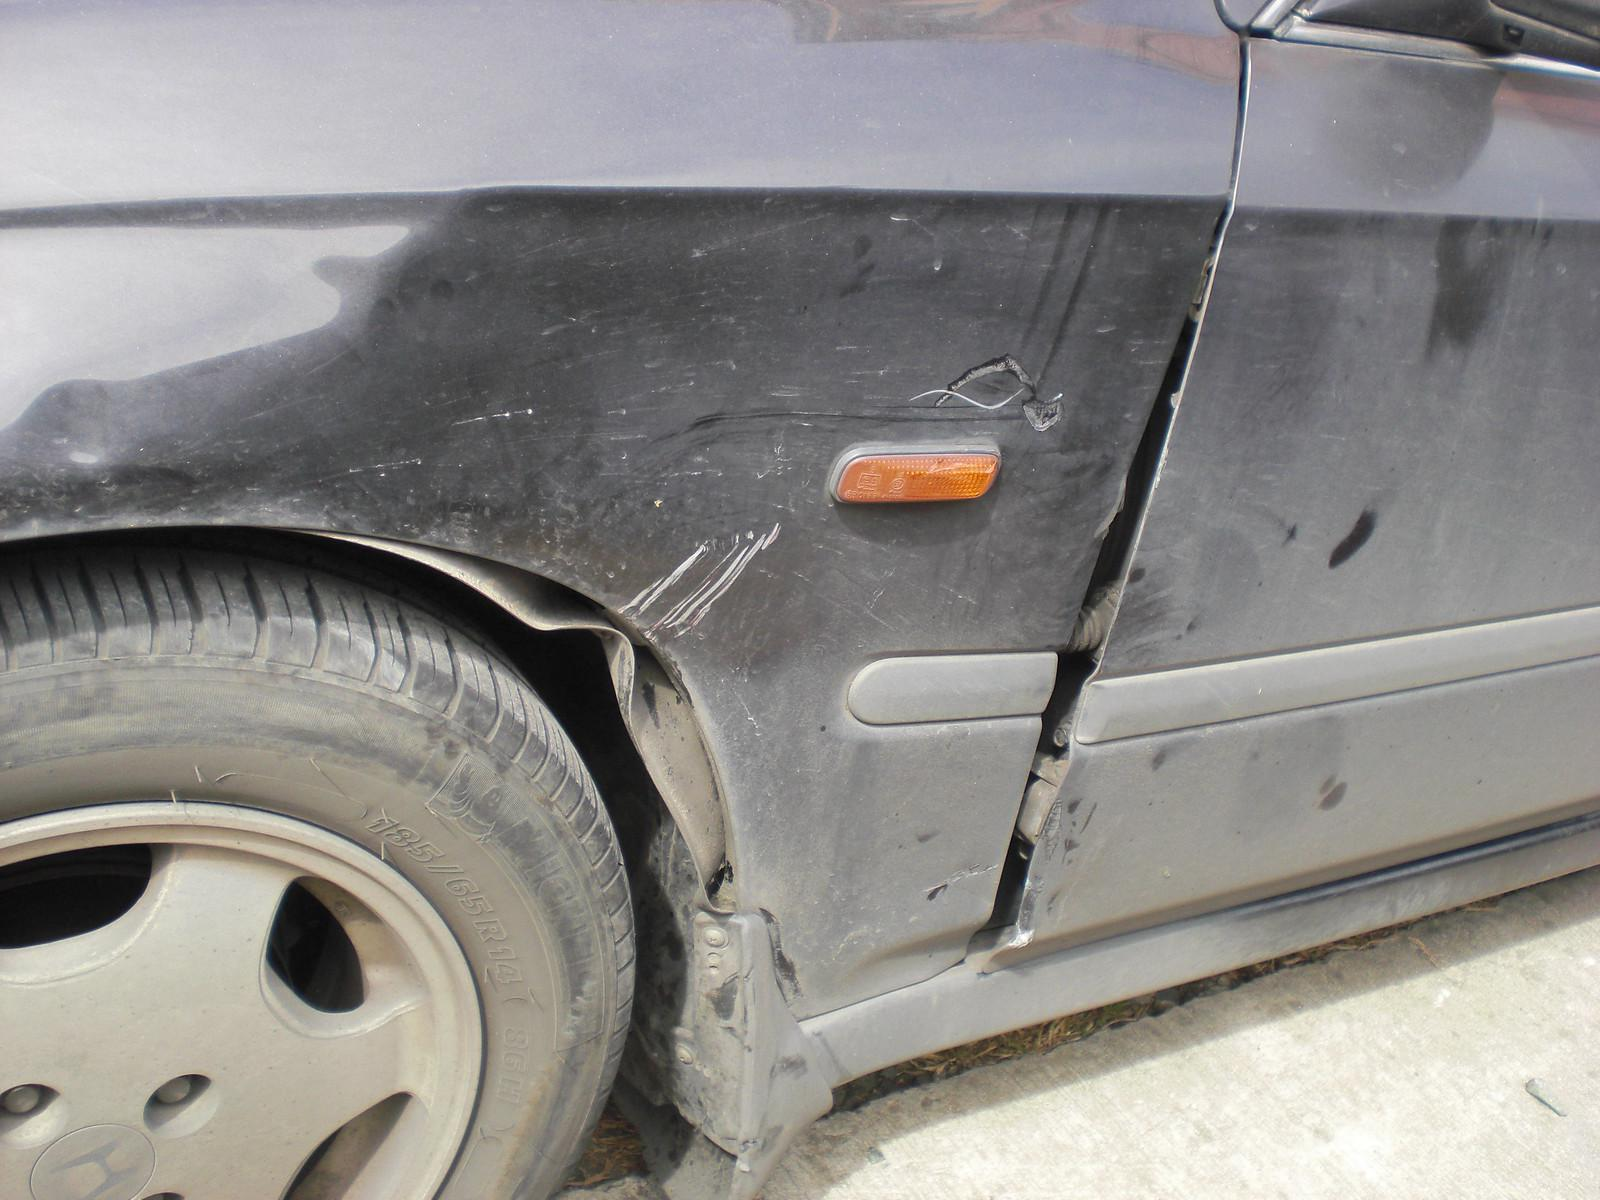fender-dent: (161, 63, 1104, 966)
